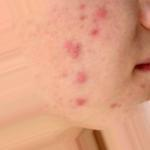Acne: (62, 40, 83, 58), (108, 99, 125, 117), (81, 6, 100, 21), (74, 70, 94, 83), (95, 8, 109, 22), (75, 95, 88, 107), (87, 27, 100, 37)
